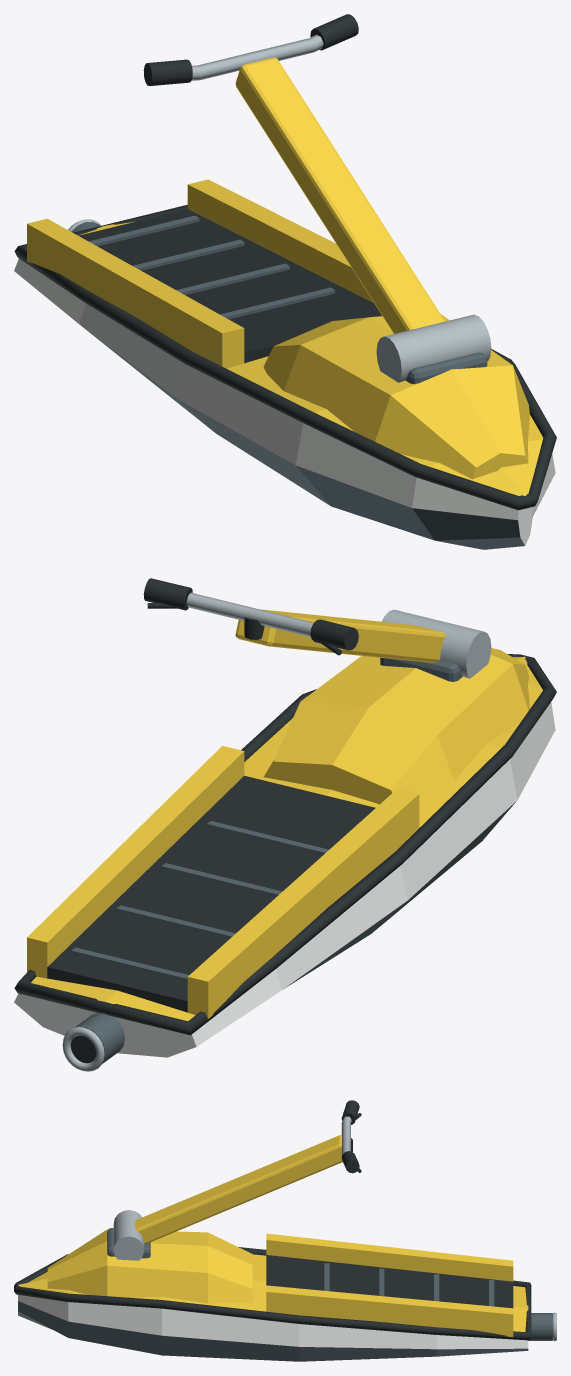
File: jet_ski_stand_up.glb
3 renders of one model, top to bottom at view 1: azimuth 30°, elevation 25°; view 2: azimuth 150°, elevation 25°; view 3: azimuth 270°, elevation 25°, orthographic. The views are drawn at different scales.
Parts seen in each view (by area): view 1: Standup_Jet_Ski_Closed_Hull_and_Deck, Standup_Jet_Ski_Front_Engine_Cover, Standup_Jet_Ski_Raised_Handle_Pole, Standup_Jet_Ski_Standing_Tray_Floor, Standup_Jet_Ski_Tray_Sidewall_-1, Standup_Jet_Ski_Attached_Deck_Rub_Rail, Standup_Jet_Ski_Tray_Sidewall_1, Standup_Jet_Ski_Visible_Handle_Pole_Hinge, Standup_Jet_Ski_Handlebar, Standup_Jet_Ski_Grip_-1, Standup_Jet_Ski_Handle_Pole_Hinge_Mount, Standup_Jet_Ski_Grip_1 (+4 smaller); view 2: Standup_Jet_Ski_Standing_Tray_Floor, Standup_Jet_Ski_Front_Engine_Cover, Standup_Jet_Ski_Closed_Hull_and_Deck, Standup_Jet_Ski_Tray_Sidewall_-1, Standup_Jet_Ski_Tray_Sidewall_1, Standup_Jet_Ski_Attached_Deck_Rub_Rail, Standup_Jet_Ski_Raised_Handle_Pole, Standup_Jet_Ski_Visible_Handle_Pole_Hinge, Standup_Jet_Ski_Handlebar, Standup_Jet_Ski_Rear_Jet_Drive_Housing, Standup_Jet_Ski_Grip_-1, Standup_Jet_Ski_Grip_1 (+6 smaller); view 3: Standup_Jet_Ski_Closed_Hull_and_Deck, Standup_Jet_Ski_Front_Engine_Cover, Standup_Jet_Ski_Standing_Tray_Floor, Standup_Jet_Ski_Tray_Sidewall_1, Standup_Jet_Ski_Raised_Handle_Pole, Standup_Jet_Ski_Tray_Sidewall_-1, Standup_Jet_Ski_Attached_Deck_Rub_Rail, Standup_Jet_Ski_Visible_Handle_Pole_Hinge, Standup_Jet_Ski_Rear_Jet_Drive_Housing, Standup_Jet_Ski_Handlebar.
Boxes of the visible parts, x1,y1,x2,y2 form: Standup_Jet_Ski_Closed_Hull_and_Deck: [14, 221, 555, 549]; Standup_Jet_Ski_Front_Engine_Cover: [263, 314, 529, 479]; Standup_Jet_Ski_Raised_Handle_Pole: [235, 57, 444, 333]; Standup_Jet_Ski_Standing_Tray_Floor: [78, 209, 381, 363]; Standup_Jet_Ski_Tray_Sidewall_-1: [27, 218, 244, 368]; Standup_Jet_Ski_Attached_Deck_Rub_Rail: [14, 205, 556, 510]; Standup_Jet_Ski_Tray_Sidewall_1: [187, 179, 373, 302]; Standup_Jet_Ski_Visible_Handle_Pole_Hinge: [376, 314, 491, 382]; Standup_Jet_Ski_Handlebar: [192, 34, 323, 80]; Standup_Jet_Ski_Grip_-1: [143, 59, 192, 85]; Standup_Jet_Ski_Handle_Pole_Hinge_Mount: [405, 352, 487, 384]; Standup_Jet_Ski_Grip_1: [310, 14, 358, 50]; Standup_Jet_Ski_Standing_Tray_Floor: [47, 775, 375, 1012]; Standup_Jet_Ski_Front_Engine_Cover: [264, 648, 529, 804]; Standup_Jet_Ski_Closed_Hull_and_Deck: [14, 656, 555, 1057]; Standup_Jet_Ski_Tray_Sidewall_-1: [187, 788, 419, 1018]; Standup_Jet_Ski_Tray_Sidewall_1: [27, 746, 244, 978]; Standup_Jet_Ski_Attached_Deck_Rub_Rail: [14, 654, 556, 1035]; Standup_Jet_Ski_Raised_Handle_Pole: [235, 609, 445, 662]; Standup_Jet_Ski_Visible_Handle_Pole_Hinge: [382, 609, 491, 678]; Standup_Jet_Ski_Handlebar: [186, 592, 313, 637]; Standup_Jet_Ski_Rear_Jet_Drive_Housing: [70, 1012, 124, 1063]; Standup_Jet_Ski_Grip_-1: [310, 619, 358, 650]; Standup_Jet_Ski_Grip_1: [143, 578, 192, 610]; Standup_Jet_Ski_Closed_Hull_and_Deck: [18, 1254, 528, 1361]; Standup_Jet_Ski_Front_Engine_Cover: [47, 1229, 252, 1303]; Standup_Jet_Ski_Standing_Tray_Floor: [266, 1255, 513, 1308]; Standup_Jet_Ski_Tray_Sidewall_1: [266, 1285, 513, 1337]; Standup_Jet_Ski_Raised_Handle_Pole: [135, 1135, 342, 1243]; Standup_Jet_Ski_Tray_Sidewall_-1: [266, 1233, 513, 1281]; Standup_Jet_Ski_Attached_Deck_Rub_Rail: [14, 1247, 531, 1340]; Standup_Jet_Ski_Visible_Handle_Pole_Hinge: [113, 1210, 144, 1260]; Standup_Jet_Ski_Rear_Jet_Drive_Housing: [528, 1313, 552, 1340]; Standup_Jet_Ski_Handlebar: [341, 1116, 351, 1156].
Size of the model in its own units: 0.7 by 1.07 by 2.37.
